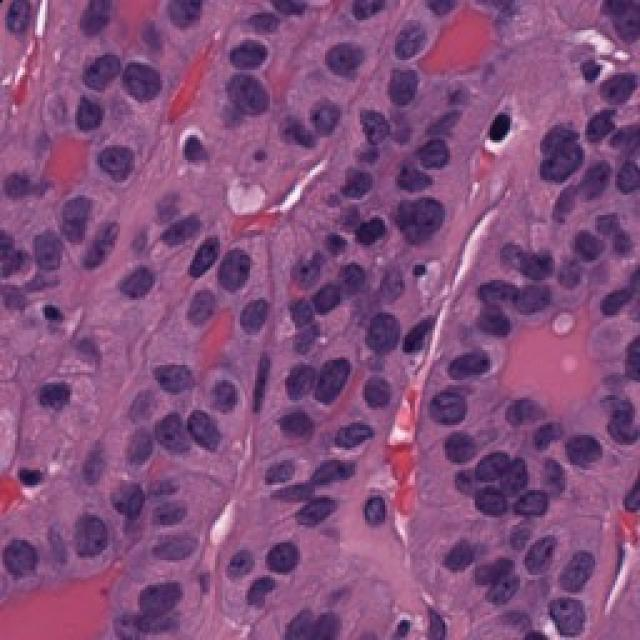abnormal: (338, 467, 417, 557), (308, 20, 382, 105), (57, 495, 125, 585), (525, 118, 593, 207), (100, 55, 185, 123), (217, 50, 285, 135), (140, 393, 207, 475), (220, 228, 283, 310), (81, 125, 151, 198), (450, 470, 522, 540), (435, 332, 508, 396), (308, 338, 367, 417), (549, 575, 619, 640), (393, 192, 460, 253), (108, 250, 170, 313), (417, 385, 483, 440)
